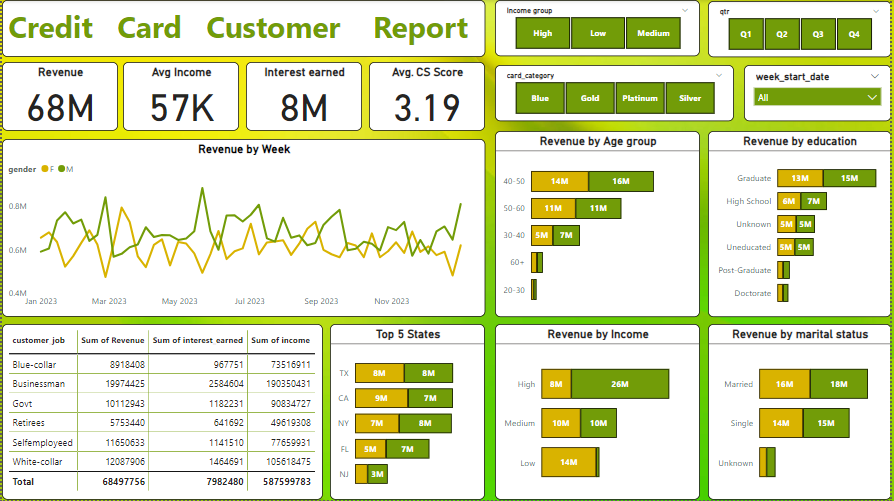

This screenshot's page, from the dashboard's own definition file:
{"tool":"powerbi","page":{"name":"cc cust report","canvas":[1280,720],"ordinal":2},"visuals":[{"type":"textbox","box":[0,0,695.5,82.1],"z":0},{"type":"card","title":"Revenue","fields":{"Values":["Sum(public cc_detail.Revenue)"]},"box":[0,88.8,167,99.4],"z":1000},{"type":"card","title":"Avg Income","fields":{"Values":["Avg(public cust_detail.income)"]},"box":[174.2,88.8,167,99.4],"z":2000},{"type":"card","title":"Interest earned","fields":{"Values":["Sum(public cc_detail.interest_earned)"]},"box":[351.4,88.8,167,99.4],"z":3000},{"type":"card","title":"Avg. CS Score","fields":{"Values":["Avg(public cust_detail.cust_satisfaction_score)"]},"box":[528.5,88.8,167,99.4],"z":4000},{"type":"tableEx","fields":{"Values":["public cust_detail.customer_job","Sum(public cc_detail.Revenue)","Sum(public cc_detail.interest_earned)","Sum(public cust_detail.income)"]},"box":[0,466.6,462.2,253.4],"z":5000},{"type":"lineChart","title":"Revenue by Week","fields":{"Y":["Sum(public cc_detail.Revenue)"],"Category":["public cc_detail.week_start_date.Variation.Date Hierarchy.Year","public cc_detail.week_start_date.Variation.Date Hierarchy.Quarter","public cc_detail.week_start_date.Variation.Date Hierarchy.Month","public cc_detail.week_start_date.Variation.Date Hierarchy.Day"],"Series":["public cust_detail.gender"]},"box":[0,200.2,695.5,256.3],"z":6000},{"type":"slicer","fields":{"Values":["public cc_detail.qtr"]},"box":[1016.6,1.4,263.5,80.6],"z":7000},{"type":"slicer","fields":{"Values":["public cc_detail.week_start_date"]},"box":[1068.5,93.6,211.7,80.6],"z":8000},{"type":"slicer","fields":{"Values":["public cust_detail.Income group"]},"box":[709.9,0,295.2,80.6],"z":9000},{"type":"slicer","fields":{"Values":["public cc_detail.card_category"]},"box":[709.9,93.6,344.2,80.6],"z":10000},{"type":"barChart","title":"Revenue by Age group ","fields":{"Y":["Sum(public cc_detail.Revenue)"],"Category":["public cust_detail.Age group"],"Series":["public cust_detail.gender"]},"box":[709.9,188.6,295.2,267.8],"z":11000},{"type":"barChart","title":"Revenue by education ","fields":{"Category":["public cust_detail.education_level"],"Y":["Sum(public cc_detail.Revenue)"],"Series":["public cust_detail.gender"]},"box":[1016.6,188.6,263.5,267.8],"z":12000},{"type":"barChart","title":"Revenue by Income ","fields":{"Category":["public cust_detail.Income group"],"Y":["Sum(public cc_detail.Revenue)"],"Series":["public cust_detail.gender"]},"box":[709.9,466.6,295.2,253.4],"z":13000},{"type":"barChart","title":"Revenue by marital status ","fields":{"Category":["public cust_detail.marital_status"],"Series":["public cust_detail.gender"],"Y":["Sum(public cc_detail.Revenue)"]},"box":[1016.6,466.6,263.5,253.4],"z":14000},{"type":"barChart","title":"Top 5 States","fields":{"Y":["Sum(public cc_detail.Revenue)"],"Category":["public cust_detail.state_cd"],"Series":["public cust_detail.gender"]},"box":[472.3,466.6,223.2,253.4],"z":15000}]}

Visuals, with their boxes in screenshot pixels (x1, y1, x2, y2), scaled from the page's 1280x720 canvas onto the 894x501 screenshot:
textbox: 0 0 486 57
"Revenue" card: 0 62 117 131
"Avg Income" card: 122 62 238 131
"Interest earned" card: 245 62 362 131
"Avg. CS Score" card: 369 62 486 131
tableEx - public cust_detail.customer_job x Sum(public cc_detail.Revenue): 0 325 323 500
"Revenue by Week" lineChart: 0 139 486 318
slicer - public cc_detail.qtr: 710 1 893 57
slicer - public cc_detail.week_start_date: 746 65 893 121
slicer - public cust_detail.Income group: 496 0 702 56
slicer - public cc_detail.card_category: 496 65 736 121
"Revenue by Age group " barChart: 496 131 702 318
"Revenue by education " barChart: 710 131 893 318
"Revenue by Income " barChart: 496 325 702 500
"Revenue by marital status " barChart: 710 325 893 500
"Top 5 States" barChart: 330 325 486 500
